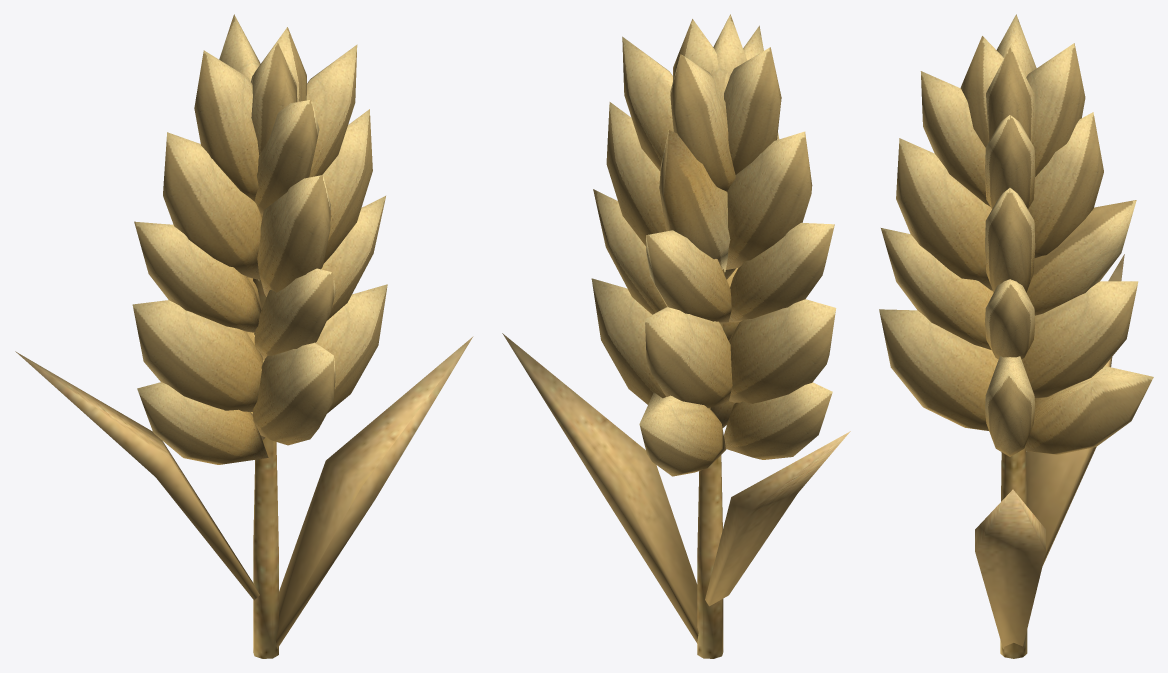
3 renders of one model, left to right at view 1: azimuth 30°, elevation 25°; view 2: azimuth 150°, elevation 25°; view 3: azimuth 270°, elevation 25°, orthographic. The views are drawn at different scales.
Parts seen in each view (by area): view 1: 立方体.002; view 2: 立方体.002; view 3: 立方体.002.
Boxes of the visible parts, x1,y1,x2,y2 form: 立方体.002: (15, 14, 473, 658); 立方体.002: (502, 14, 850, 658); 立方体.002: (879, 14, 1153, 658).
Size of the model in its own units: 2.71 by 4.01 by 1.62.
